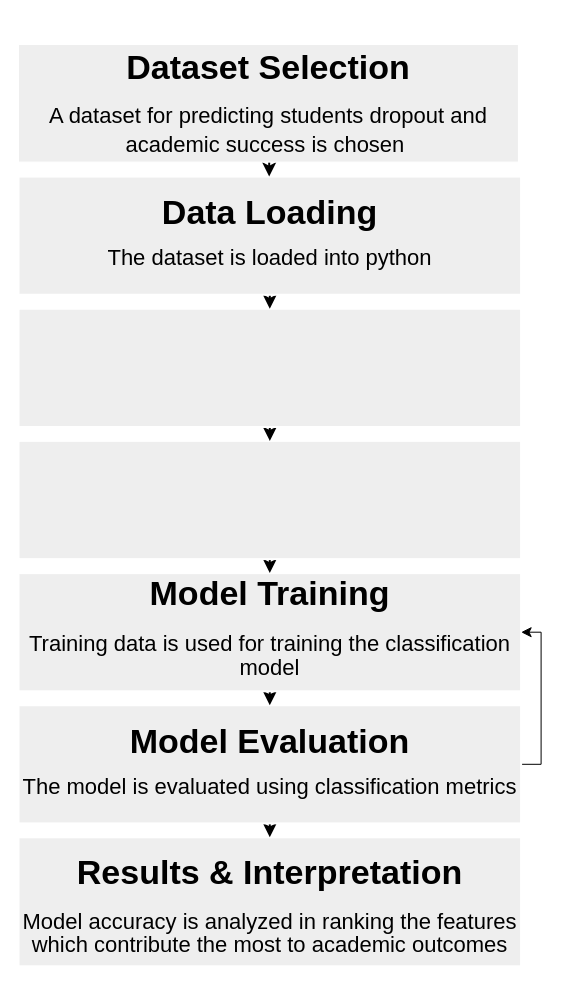
This 569x988 diagram has some shape labels left out. Here are the shapes that lost their labels. From the top down, the centre of each, then its label:
At (x=269, y=367): "Data Preprocessing Data is cleaned and prepared for machine learning".
At (x=269, y=499): "Train/test split Data is split into a 80% training split and a 20% testing split".
